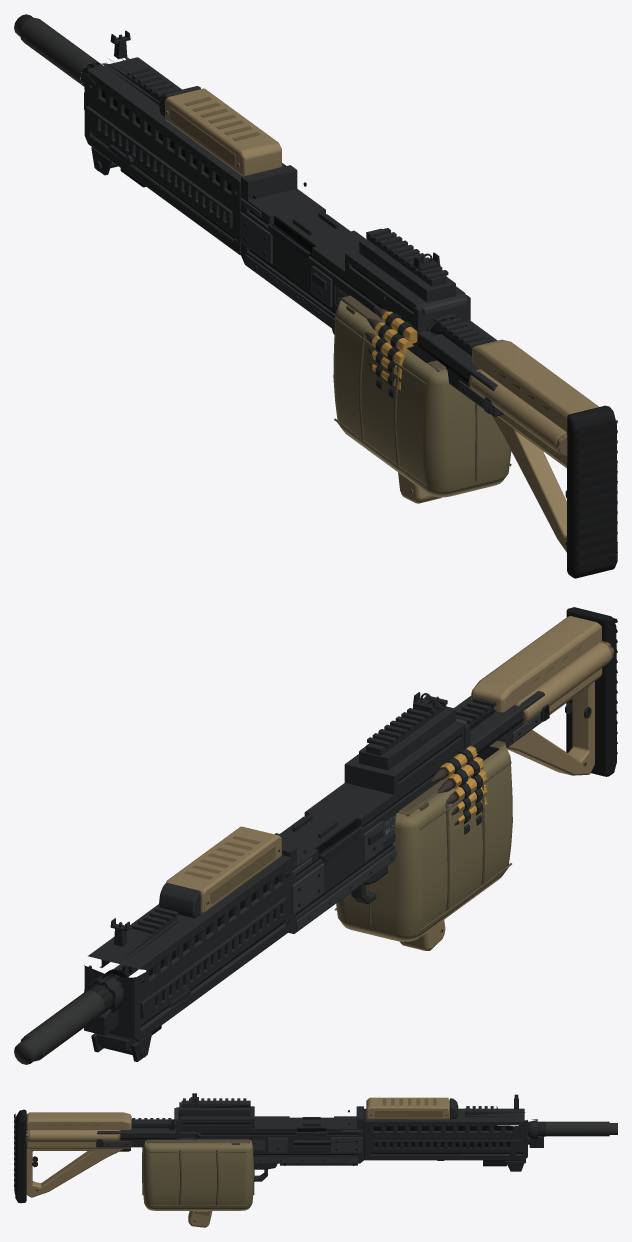
File: weapon-45-D2fcMtFP.glb
3 views of the same model, one above another, from view 1: azimuth 30°, elevation 25°; view 2: azimuth 150°, elevation 25°; view 3: azimuth 270°, elevation 25° (orthographic). The views are drawn at different scales.
Visible parts, largest first — view 1: salient_weapon_body, salient_weapon_magazine, salient_weapon_cover, salient_weapon_belt; view 2: salient_weapon_body, salient_weapon_magazine, salient_weapon_cover, salient_weapon_belt, salient_weapon_iron; view 3: salient_weapon_body, salient_weapon_magazine, salient_weapon_cover.
Boxes of the visible parts, x1=… form: salient_weapon_body: x1=14, y1=14, x2=617, y2=578; salient_weapon_magazine: x1=333, y1=295, x2=511, y2=497; salient_weapon_cover: x1=402, y1=314, x2=503, y2=416; salient_weapon_belt: x1=365, y1=306, x2=417, y2=398; salient_weapon_body: x1=14, y1=607, x2=617, y2=1064; salient_weapon_magazine: x1=334, y1=740, x2=512, y2=941; salient_weapon_cover: x1=453, y1=691, x2=549, y2=757; salient_weapon_belt: x1=431, y1=746, x2=487, y2=834; salient_weapon_iron: x1=110, y1=692, x2=439, y2=946; salient_weapon_body: x1=14, y1=1097, x2=617, y2=1227; salient_weapon_magazine: x1=142, y1=1139, x2=254, y2=1210; salient_weapon_cover: x1=96, y1=1118, x2=200, y2=1147.
Size of the model in its own units: 0.0925 by 0.2393 by 1.01.
